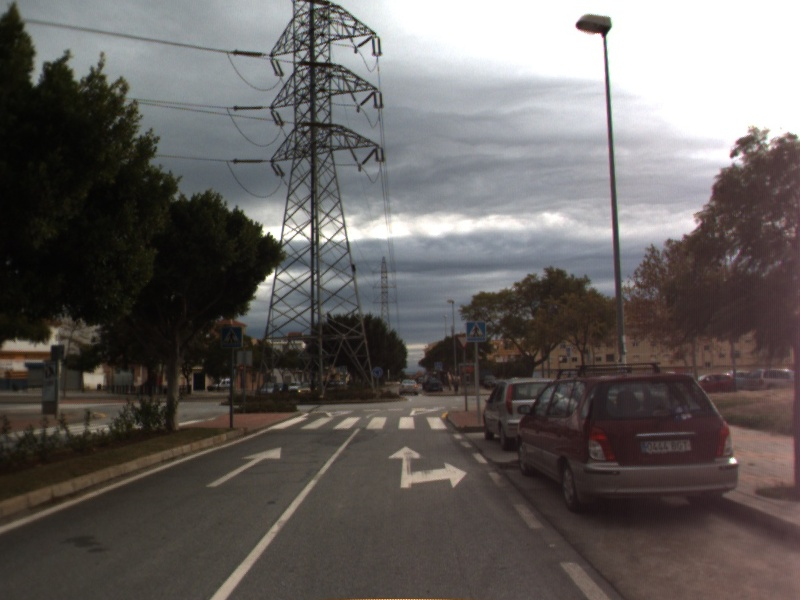STRAIGHT: (204, 446, 283, 489)
STRAIGHT_RIGHT: (386, 444, 470, 490)
